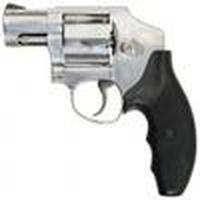gun: (3, 2, 200, 197)
